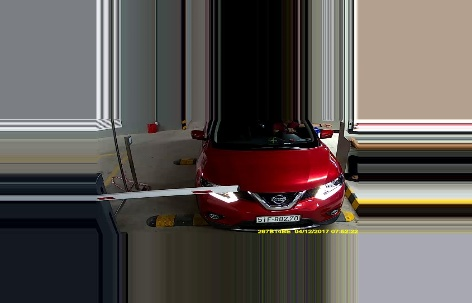plate: (255, 211, 300, 223)
